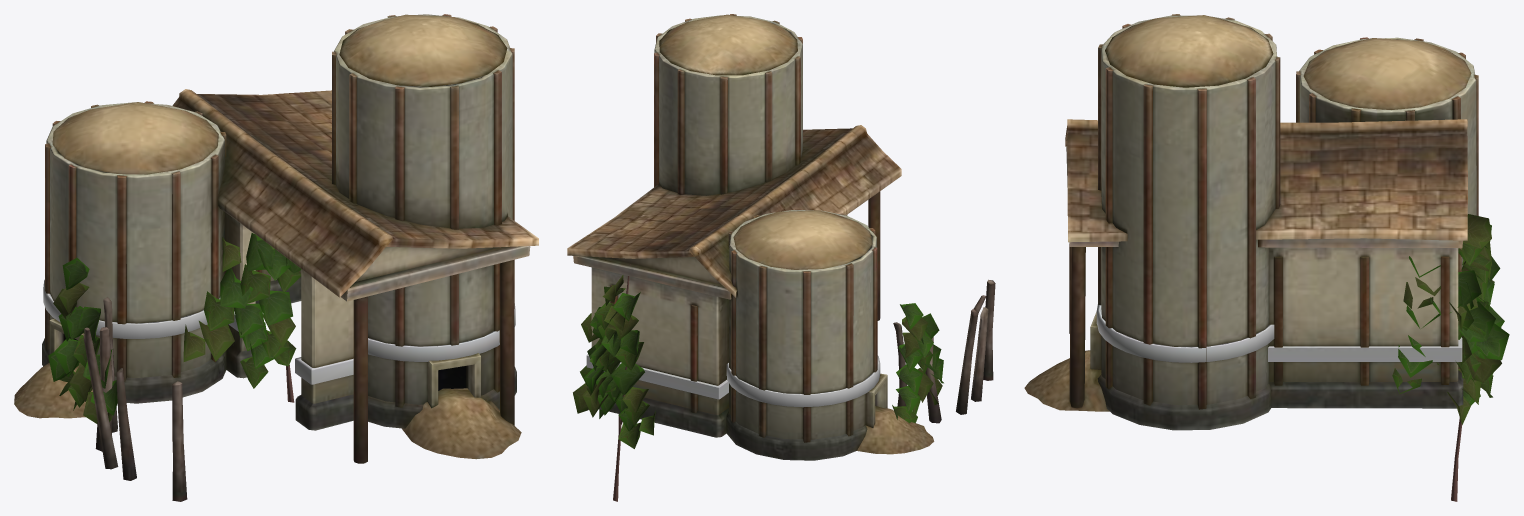
Rendered from 15-granary.glb.
3 views of the same model, side by side, from view 1: azimuth 30°, elevation 25°; view 2: azimuth 150°, elevation 25°; view 3: azimuth 270°, elevation 25° (orthographic). The views are drawn at different scales.
Size of the model in its own units: 4.56 by 5.08 by 4.74.
3 materials, 3 textured.
